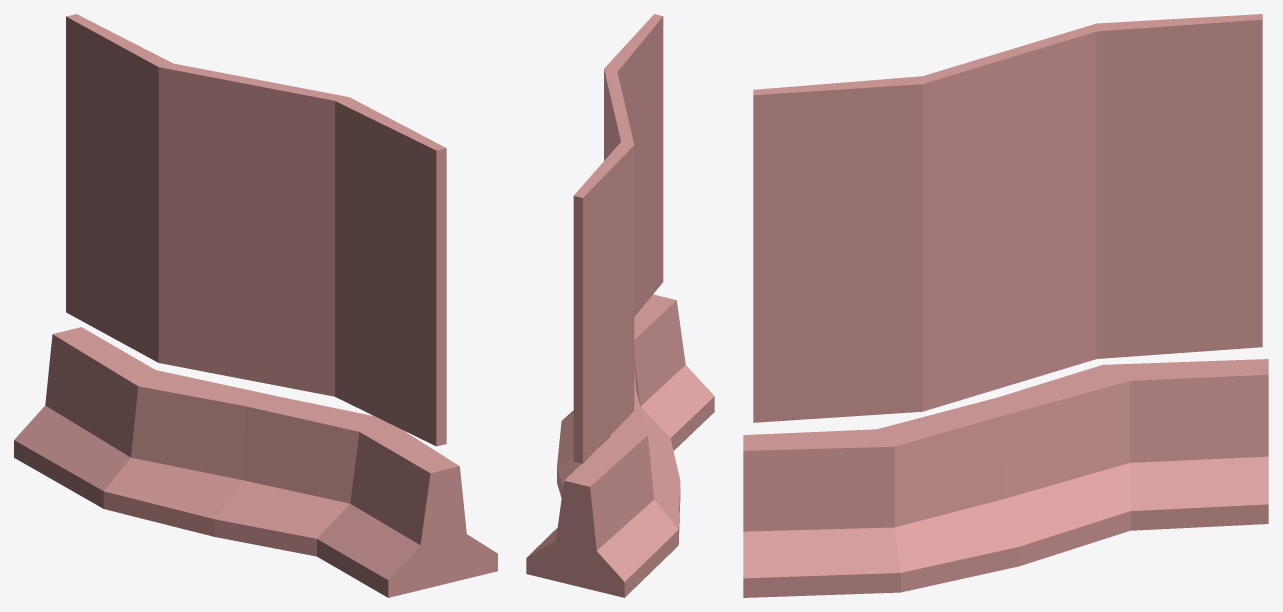
File: Fence_C_E_COL.fbx
The picture shows the model from 3 angles, left to right: view 1: azimuth 30°, elevation 25°; view 2: azimuth 150°, elevation 25°; view 3: azimuth 270°, elevation 25°; orthographic projection. The views are drawn at different scales.
Parts seen in each view (by area): view 1: Fence_C_E_Wire_COL, Fence_C_E_COL; view 2: Fence_C_E_Wire_COL, Fence_C_E_COL; view 3: Fence_C_E_Wire_COL, Fence_C_E_COL.
Part boxes in pixels (x1=…): Fence_C_E_Wire_COL: x1=66, y1=14, x2=446, y2=446; Fence_C_E_COL: x1=14, y1=327, x2=497, y2=597; Fence_C_E_Wire_COL: x1=573, y1=14, x2=663, y2=463; Fence_C_E_COL: x1=526, y1=294, x2=714, y2=597; Fence_C_E_Wire_COL: x1=753, y1=14, x2=1262, y2=422; Fence_C_E_COL: x1=743, y1=359, x2=1268, y2=597.
Bounding box in the file's own units: 180 × 301 × 300.
